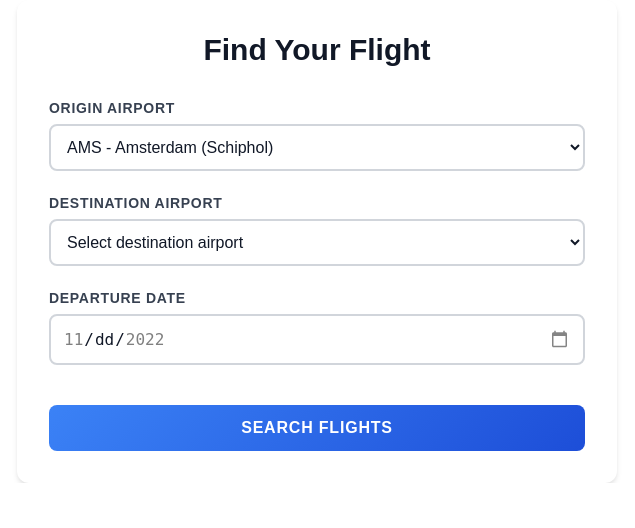
it: SearchForm Component › Form validation › shows error when origin and destination are the same
Note: Origin is already AMS by default
Select "AMS - Amsterdam (Schiphol)" in the dropdown labelled "Destination Airport" at (317, 242), box [49, 219, 585, 266]
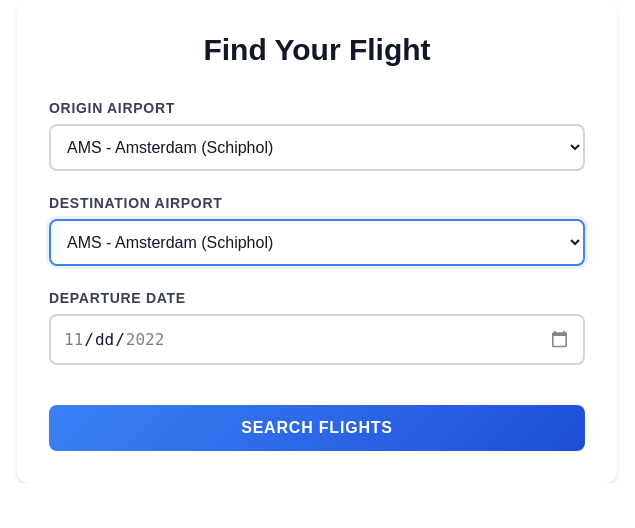
Type "2022-11-15" into the date field labelled "Departure Date".
click(317, 340); type("2022-11-15")  # box [49, 314, 585, 365]
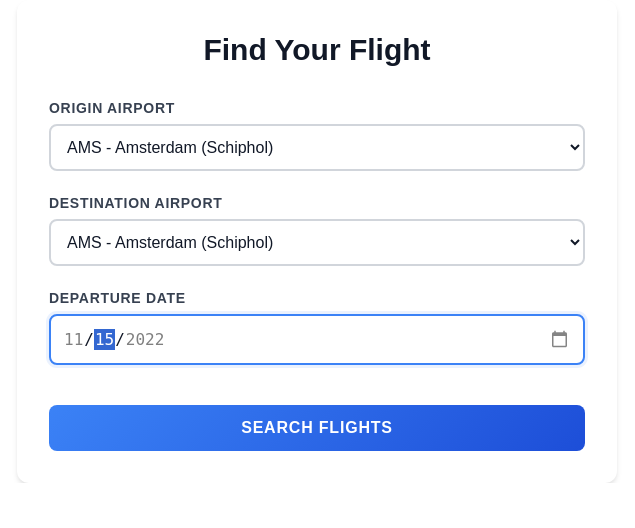
Click the button "Search Flights".
click(317, 428)  # box [49, 405, 585, 451]
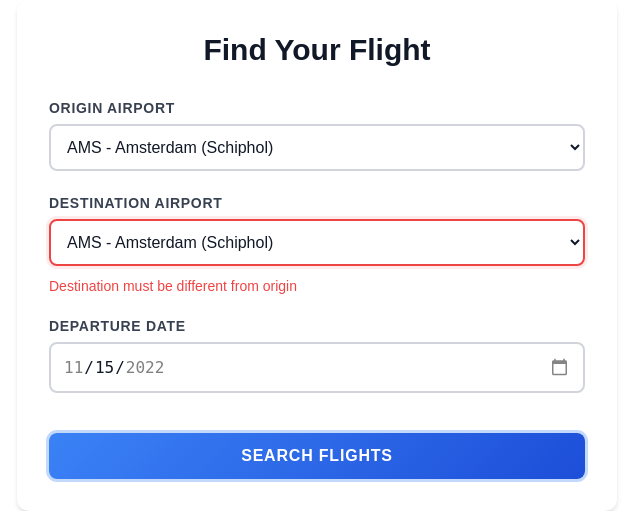
Expected: the text "Destination must be different from origin" is shown, [49, 278, 297, 294]
